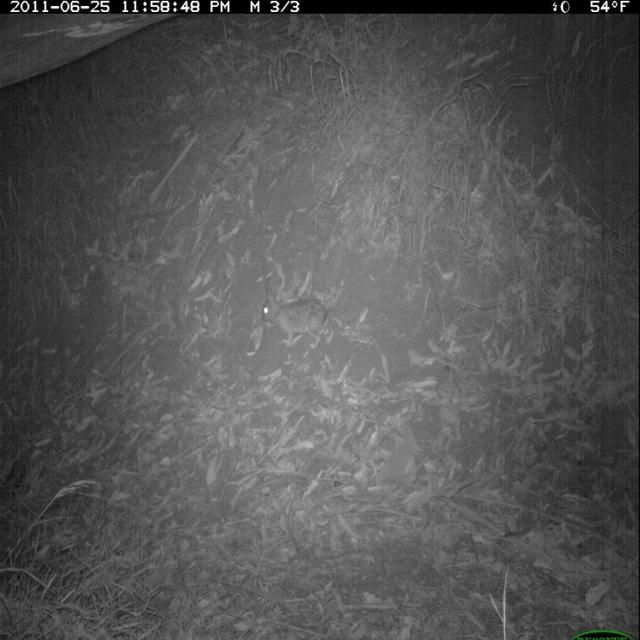rabbit: (260, 271, 340, 354)
